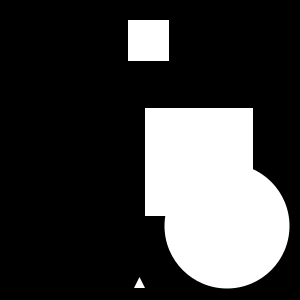circle: (145, 108, 253, 216), (128, 20, 169, 61)
rectangle: (164, 163, 290, 288)
triangle: (134, 277, 145, 288)
